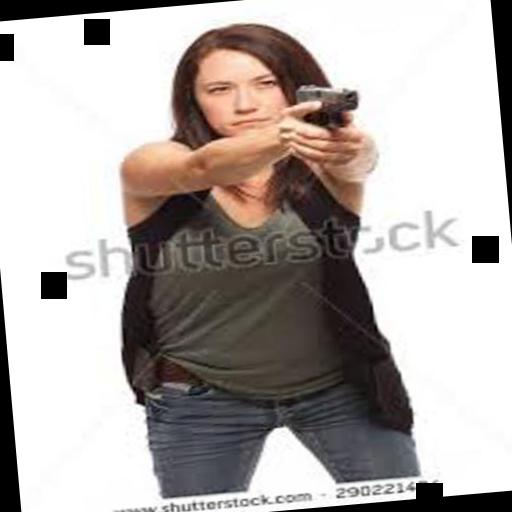Handgun: (282, 79, 370, 144)
